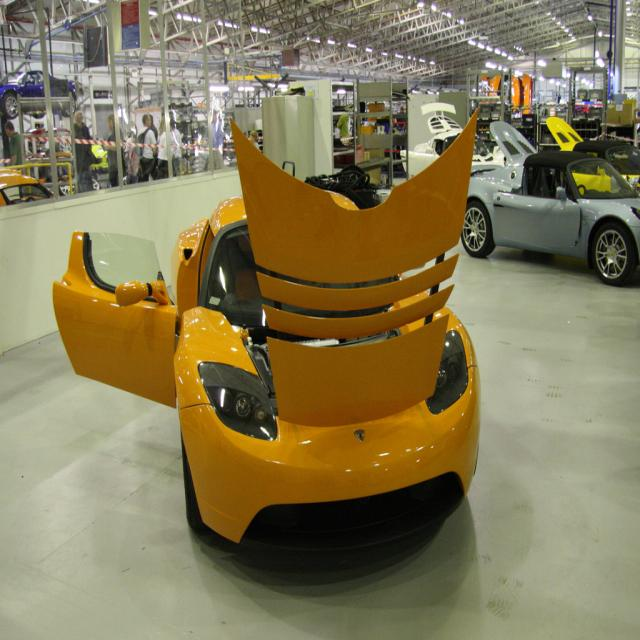car: (52, 109, 481, 584)
